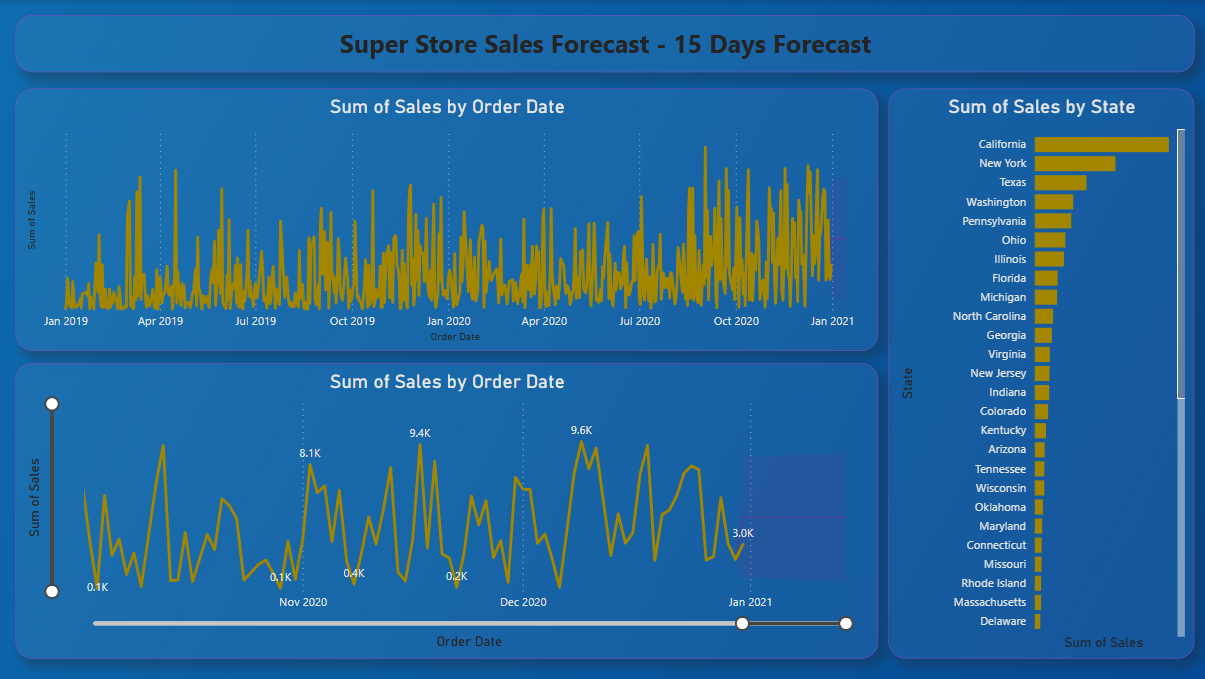

This screenshot's page, from the dashboard's own definition file:
{"tool":"powerbi","page":{"name":"Page 2","canvas":[1280,720],"ordinal":1},"visuals":[{"type":"lineChart","fields":{"Y":["Sum(SuperStore_Sales_Dataset.Sales)"],"Category":["SuperStore_Sales_Dataset.Order Date"]},"box":[17.5,93.8,913.9,278.1],"z":0},{"type":"lineChart","fields":{"Y":["Sum(SuperStore_Sales_Dataset.Sales)"],"Category":["SuperStore_Sales_Dataset.Order Date"]},"box":[17.5,384.6,913.9,313.1],"z":1},{"type":"textbox","box":[17.5,15.9,1249.3,60.4],"z":2},{"type":"clusteredBarChart","fields":{"Y":["Sum(SuperStore_Sales_Dataset.Sales)"],"Category":["SuperStore_Sales_Dataset.State"]},"box":[942.5,93.8,324.2,604],"z":3}]}

Visuals, with their boxes in screenshot pixels (x1, y1, x2, y2), scaled from the page's 1280x720 canvas onto the 1205x679 screenshot:
lineChart - Sum(SuperStore_Sales_Dataset.Sales) x SuperStore_Sales_Dataset.Order Date: pyautogui.locateOnScreen(16, 88, 877, 351)
lineChart - Sum(SuperStore_Sales_Dataset.Sales) x SuperStore_Sales_Dataset.Order Date: pyautogui.locateOnScreen(16, 363, 877, 658)
textbox: pyautogui.locateOnScreen(16, 15, 1193, 72)
clusteredBarChart - Sum(SuperStore_Sales_Dataset.Sales) x SuperStore_Sales_Dataset.State: pyautogui.locateOnScreen(887, 88, 1192, 658)
